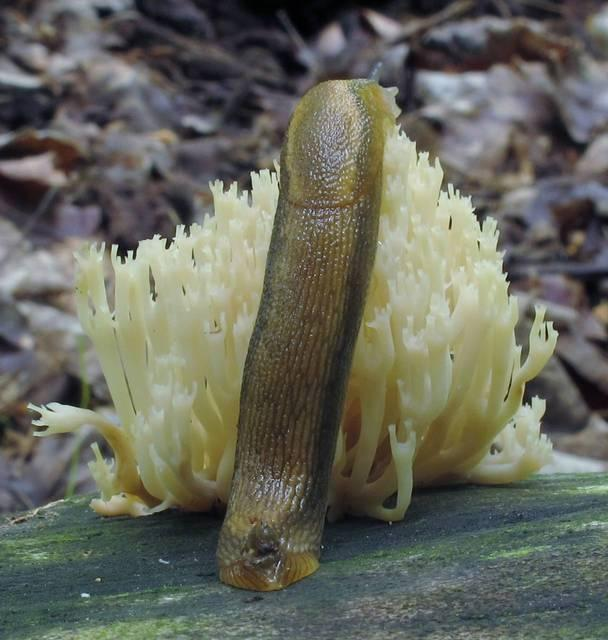Edible Mushroom: (56, 61, 564, 513)
